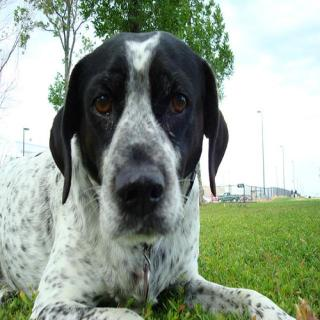dog: (46, 25, 231, 247)
nose: (110, 158, 173, 220)
